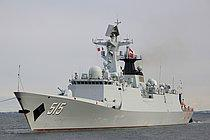MIL_Ship: (10, 21, 194, 129)
